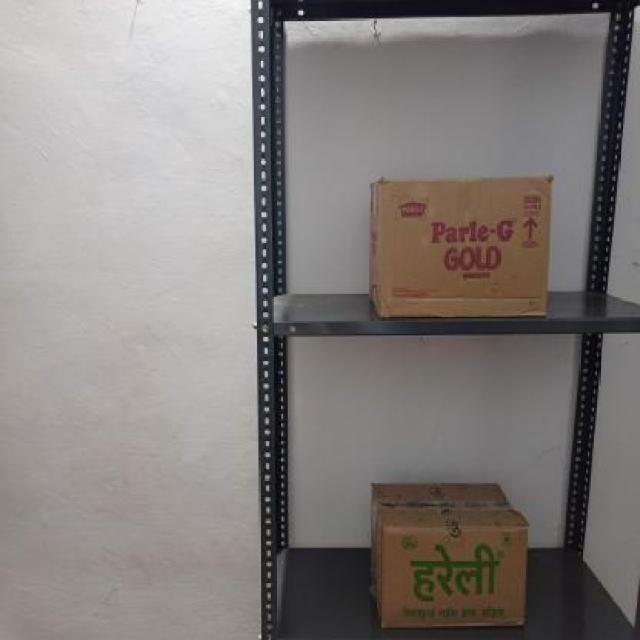box: (376, 183, 549, 320), (379, 526, 527, 626)
